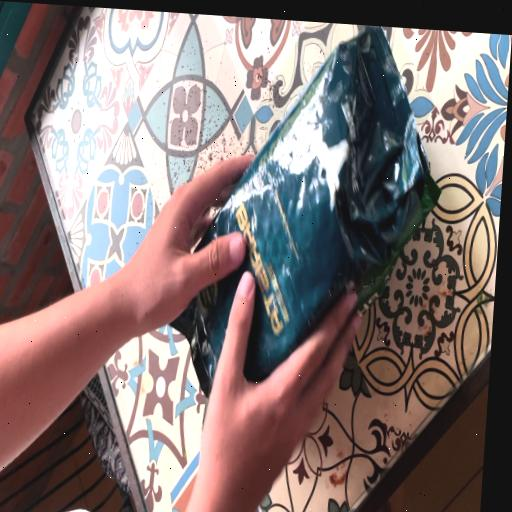cafe_hat: (172, 24, 440, 395)
